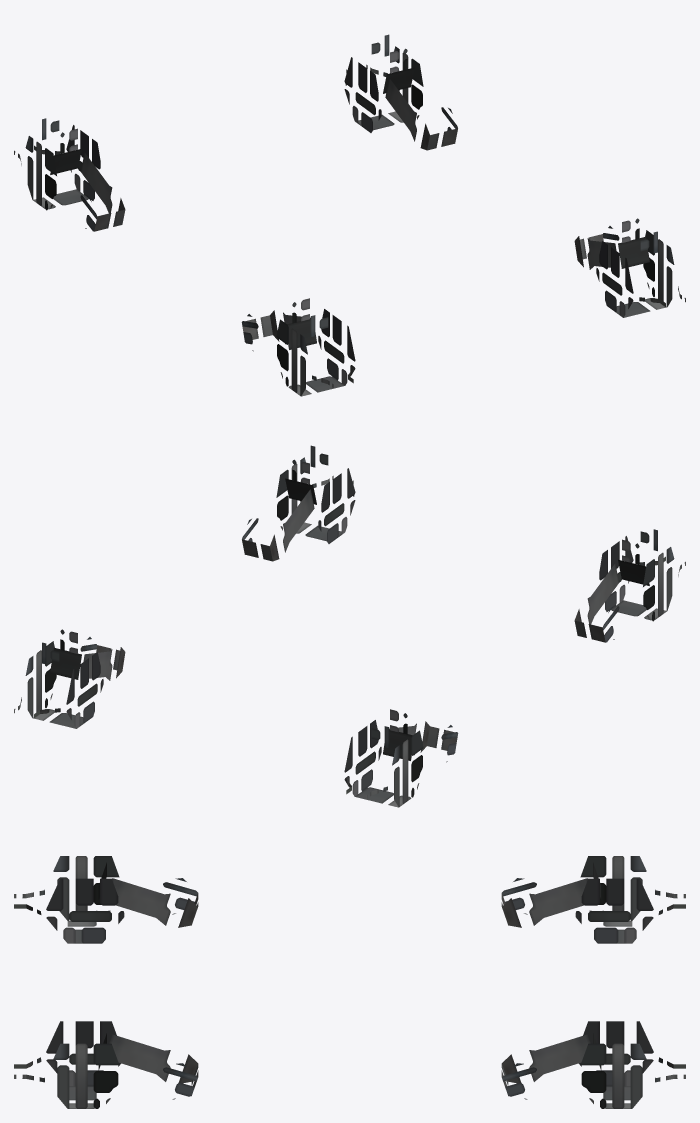
File: primary_suspension.obj
3 renders of one model, top to bottom at view 1: azimuth 30°, elevation 25°; view 2: azimuth 150°, elevation 25°; view 3: azimuth 270°, elevation 25°, orthographic. The views are drawn at different scales.
Visible parts, largest first — view 1: d054be1b-21a1-cab6-1679-ff1908424e24, aaf1ad02-ee34-8e92-d928-136cefd3f448, a0cde182-780d-a0ea-9ec3-40c56e106c5c, f97dd338-a7d1-83bc-2ecb-98b6aab80322, cde5feb0-9b98-aae9-8cad-b5b6a161ecdd, f4766d59-11f7-8cad-b991-386688a4e391, c5503e83-5d8f-2c53-9312-ff2047011689, 138c9db5-8eb5-a328-da56-96954d9997e5; view 2: a0cde182-780d-a0ea-9ec3-40c56e106c5c, f97dd338-a7d1-83bc-2ecb-98b6aab80322, d054be1b-21a1-cab6-1679-ff1908424e24, aaf1ad02-ee34-8e92-d928-136cefd3f448, 138c9db5-8eb5-a328-da56-96954d9997e5, c5503e83-5d8f-2c53-9312-ff2047011689, f4766d59-11f7-8cad-b991-386688a4e391, cde5feb0-9b98-aae9-8cad-b5b6a161ecdd; view 3: aaf1ad02-ee34-8e92-d928-136cefd3f448, f97dd338-a7d1-83bc-2ecb-98b6aab80322, d054be1b-21a1-cab6-1679-ff1908424e24, a0cde182-780d-a0ea-9ec3-40c56e106c5c, 138c9db5-8eb5-a328-da56-96954d9997e5, cde5feb0-9b98-aae9-8cad-b5b6a161ecdd, c5503e83-5d8f-2c53-9312-ff2047011689, f4766d59-11f7-8cad-b991-386688a4e391.
Part boxes in pixels (x1=…): d054be1b-21a1-cab6-1679-ff1908424e24: x1=276, y1=309, x2=355, y2=396; aaf1ad02-ee34-8e92-d928-136cefd3f448: x1=596, y1=230, x2=685, y2=317; a0cde182-780d-a0ea-9ec3-40c56e106c5c: x1=14, y1=125, x2=100, y2=210; f97dd338-a7d1-83bc-2ecb-98b6aab80322: x1=344, y1=46, x2=423, y2=132; cde5feb0-9b98-aae9-8cad-b5b6a161ecdd: x1=50, y1=148, x2=125, y2=231; f4766d59-11f7-8cad-b991-386688a4e391: x1=383, y1=67, x2=457, y2=150; c5503e83-5d8f-2c53-9312-ff2047011689: x1=574, y1=226, x2=649, y2=269; 138c9db5-8eb5-a328-da56-96954d9997e5: x1=241, y1=310, x2=316, y2=351; a0cde182-780d-a0ea-9ec3-40c56e106c5c: x1=344, y1=720, x2=423, y2=807; f97dd338-a7d1-83bc-2ecb-98b6aab80322: x1=14, y1=641, x2=103, y2=728; d054be1b-21a1-cab6-1679-ff1908424e24: x1=599, y1=536, x2=685, y2=621; aaf1ad02-ee34-8e92-d928-136cefd3f448: x1=276, y1=457, x2=355, y2=543; 138c9db5-8eb5-a328-da56-96954d9997e5: x1=574, y1=559, x2=649, y2=642; c5503e83-5d8f-2c53-9312-ff2047011689: x1=242, y1=478, x2=316, y2=561; f4766d59-11f7-8cad-b991-386688a4e391: x1=50, y1=637, x2=125, y2=680; cde5feb0-9b98-aae9-8cad-b5b6a161ecdd: x1=383, y1=721, x2=458, y2=762; aaf1ad02-ee34-8e92-d928-136cefd3f448: x1=14, y1=1021, x2=120, y2=1108; f97dd338-a7d1-83bc-2ecb-98b6aab80322: x1=579, y1=1021, x2=685, y2=1108; d054be1b-21a1-cab6-1679-ff1908424e24: x1=14, y1=856, x2=124, y2=943; a0cde182-780d-a0ea-9ec3-40c56e106c5c: x1=575, y1=856, x2=685, y2=943; 138c9db5-8eb5-a328-da56-96954d9997e5: x1=98, y1=862, x2=198, y2=927; cde5feb0-9b98-aae9-8cad-b5b6a161ecdd: x1=501, y1=862, x2=601, y2=927; c5503e83-5d8f-2c53-9312-ff2047011689: x1=98, y1=1033, x2=198, y2=1099; f4766d59-11f7-8cad-b991-386688a4e391: x1=501, y1=1033, x2=601, y2=1099.
Bounding box in the file's own units: 2.28 × 0.5094 × 3.45.
